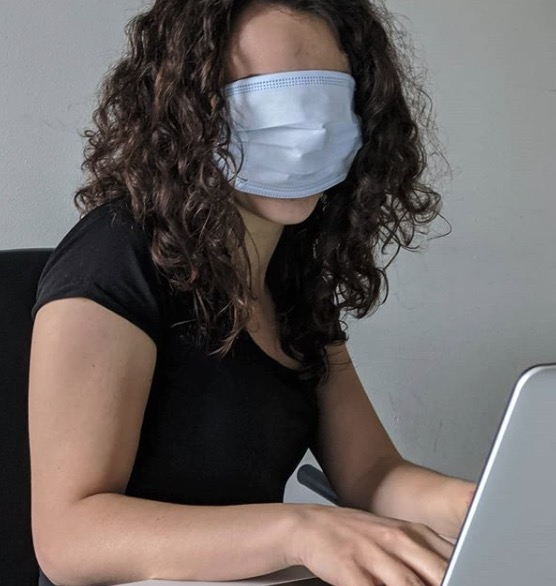mask_weared_incorrect: (226, 49, 373, 228)
